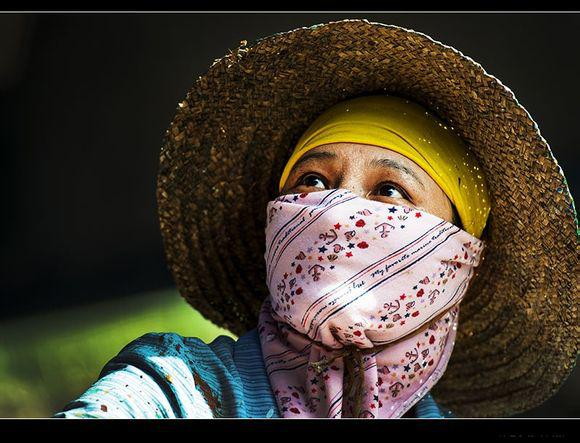OK: (265, 146, 456, 337)
